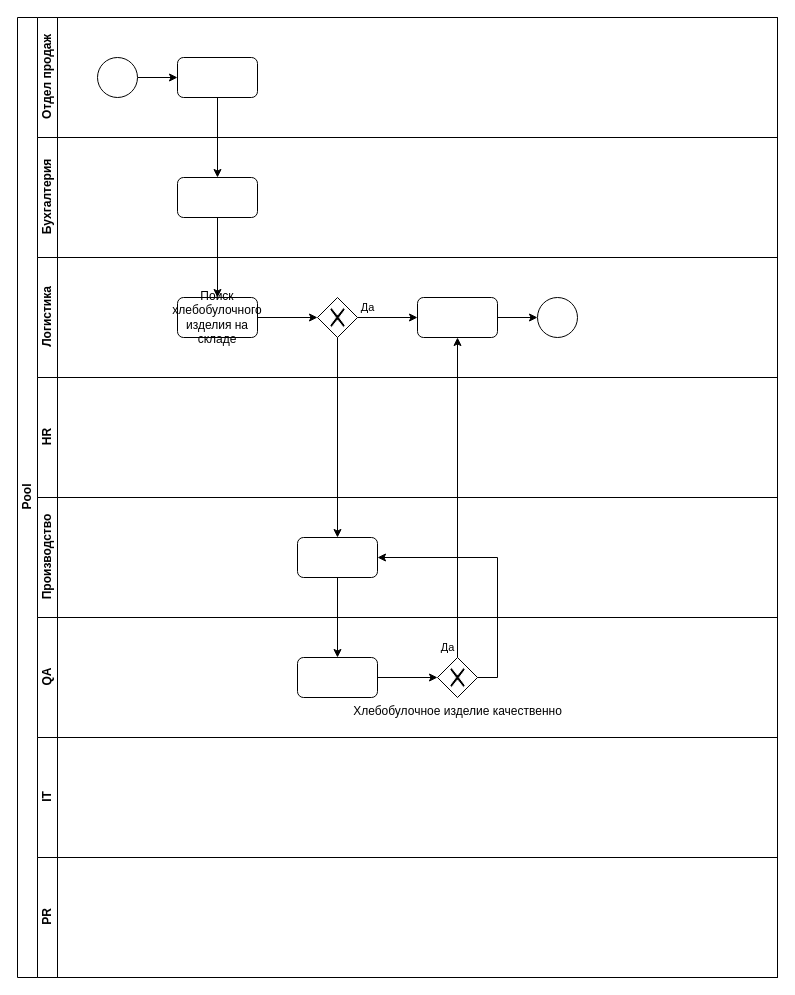
The diagram is 795 pixels wide and 995 high, and some of its shapes have lost their labels. Here are the shapes that lost their labels. From the top down, the centre of each, then its label:
At pixel 217 77: "Запрос на покупку хлебобулочного изделия".
At pixel 217 197: "Подсчёт стоимости".
At pixel 337 317: "Хлебобулочное изделие найдено".
At pixel 457 317: "Отправка хлебобулочного изделия".
At pixel 337 557: "Производство хлебобулочного изделия".
At pixel 337 677: "Проверка хлебобулочного изделия на качество".
